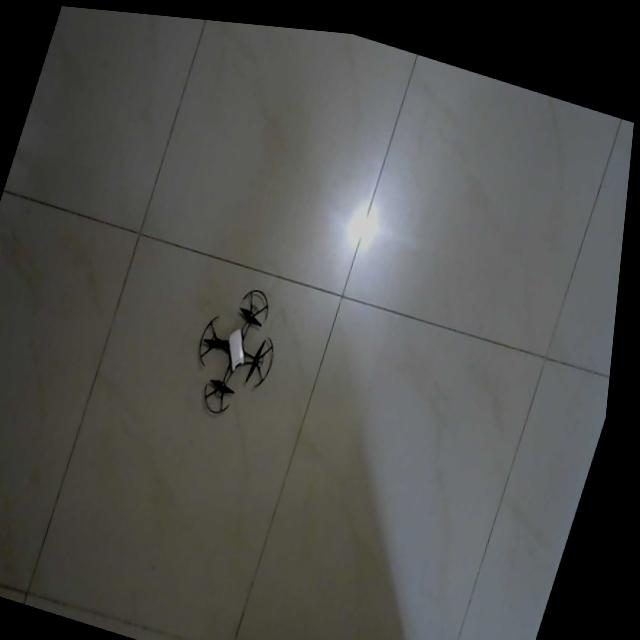drone: (204, 283, 281, 409)
